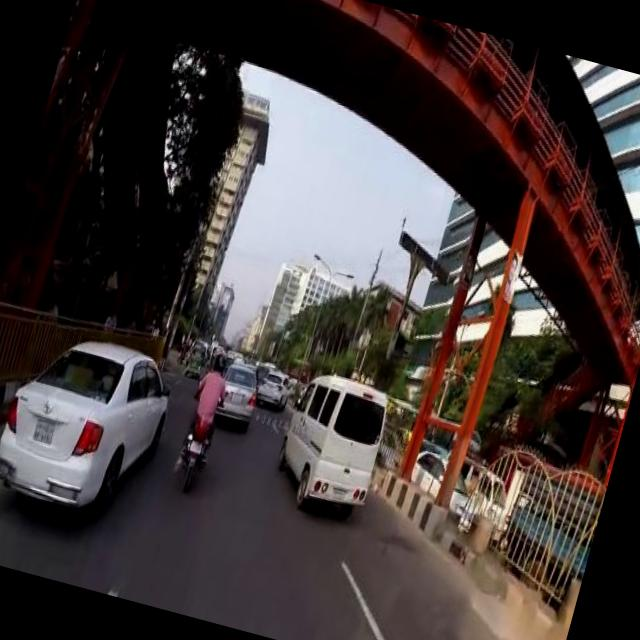bus: (419, 411, 484, 457)
car: (0, 315, 180, 525), (402, 445, 484, 518), (212, 355, 264, 423), (254, 362, 293, 406)
motorcycle: (172, 377, 227, 488), (182, 336, 208, 376)
truck: (267, 362, 394, 512)
